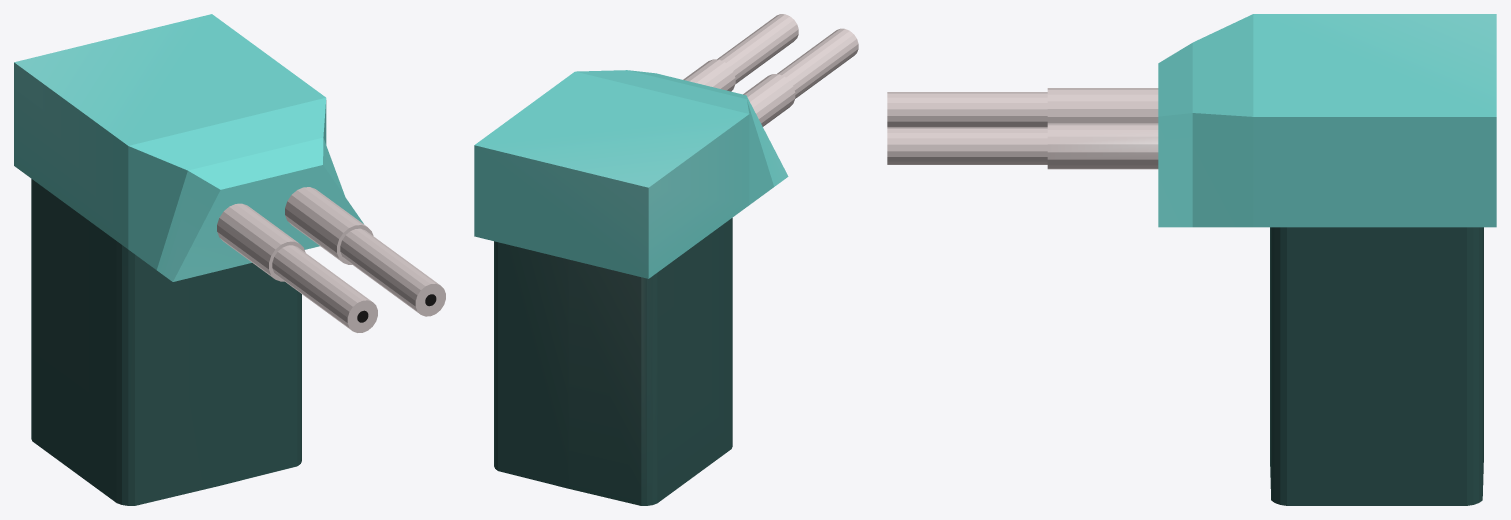
The model's file is torreta_policial_dupla.fbx.
3 views of the same model, side by side, from view 1: azimuth 30°, elevation 25°; view 2: azimuth 150°, elevation 25°; view 3: azimuth 270°, elevation 25° (orthographic). The views are drawn at different scales.
Visible parts, largest first — view 1: torreta_policial_dupla; view 2: torreta_policial_dupla; view 3: torreta_policial_dupla.
Boxes of the visible parts, left/top/right/bottom form: torreta_policial_dupla: left=14, top=14, right=445, bottom=505; torreta_policial_dupla: left=474, top=14, right=858, bottom=505; torreta_policial_dupla: left=887, top=14, right=1496, bottom=505.
Bounding box in the file's own units: 69.58 × 124 × 174.
